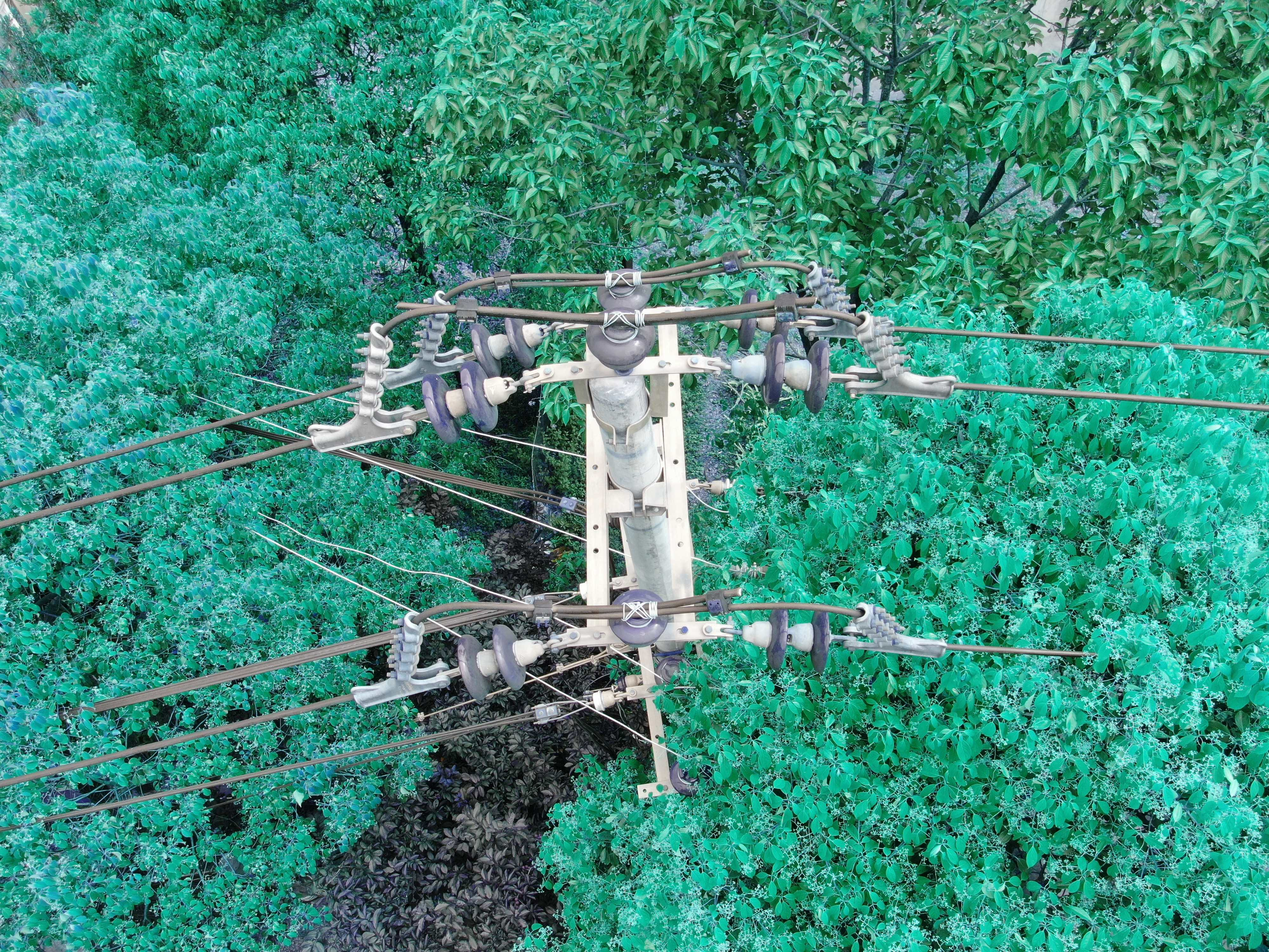severe_soiling_no_discharge_whole: (420, 357, 520, 447), (456, 622, 549, 707), (469, 310, 554, 379)
